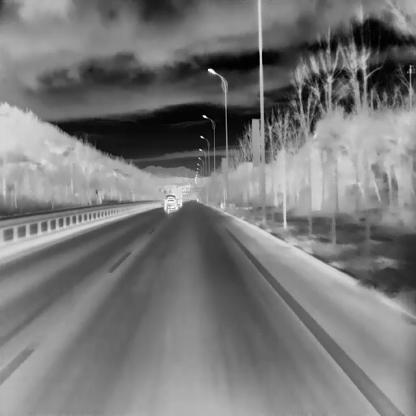car: (163, 195, 178, 211), (172, 188, 182, 206)
